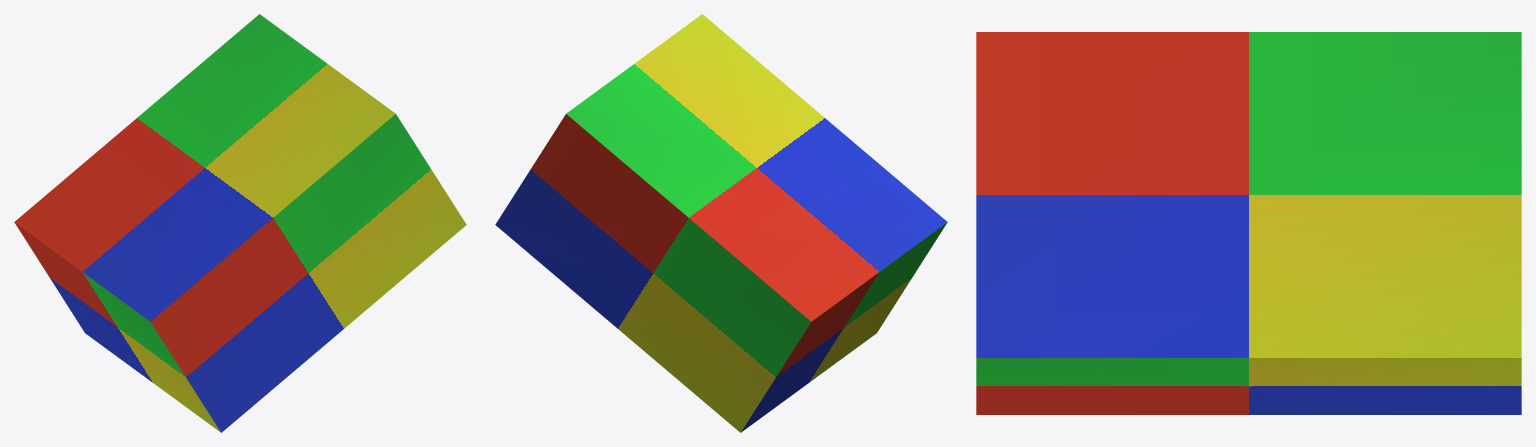
The model's file is glb-textured-buffer-view-cube.glb.
3 renders of one model, left to right at view 1: azimuth 30°, elevation 25°; view 2: azimuth 150°, elevation 25°; view 3: azimuth 270°, elevation 25°, orthographic. The views are drawn at different scales.
Size of the model in its own units: 3.35 by 2.8 by 2.5.
1 material, 1 textured.
